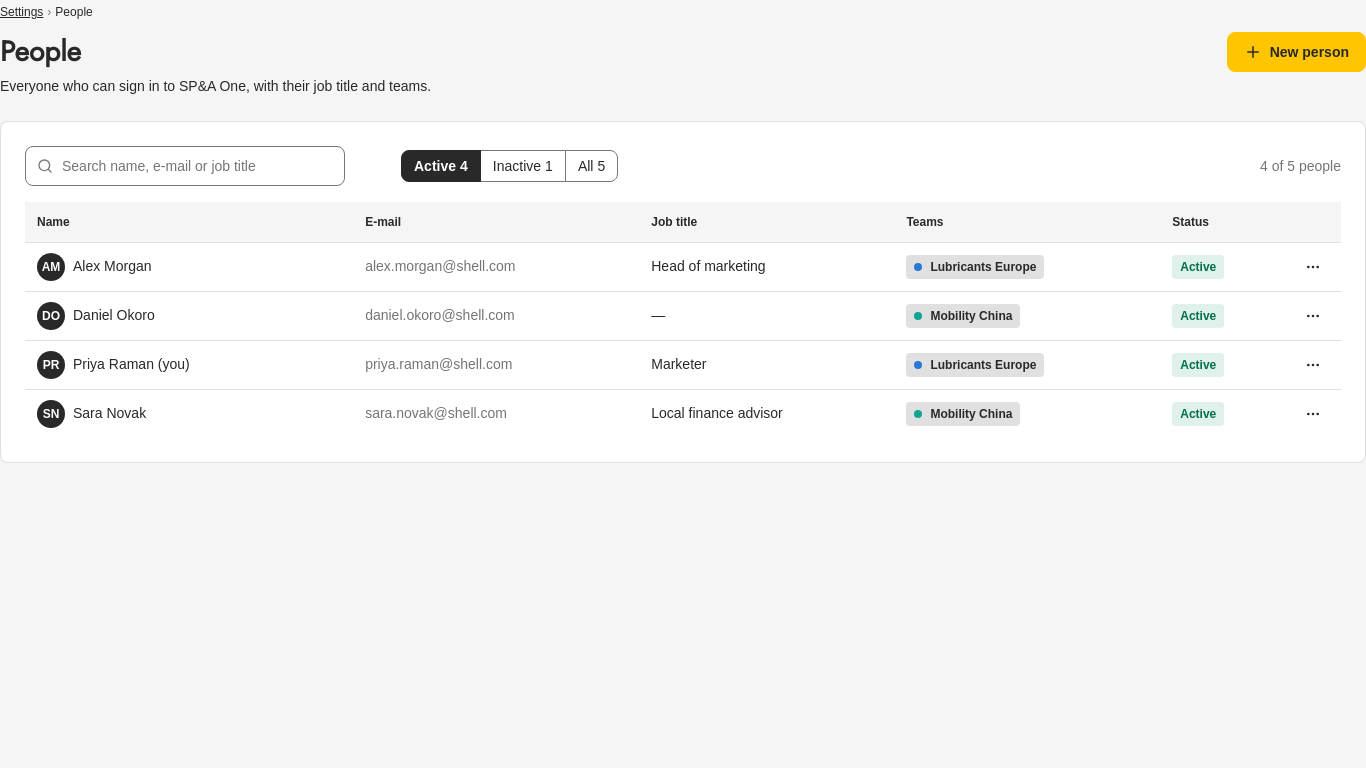
Scenario: PeoplePage (feature 003, US1): Deactivate and Reactivate › sends nothing when the deactivation is cancelled
Click the button named "Actions for Alex Morgan" at (1313, 266), box left=1297, top=250, right=1329, bottom=282
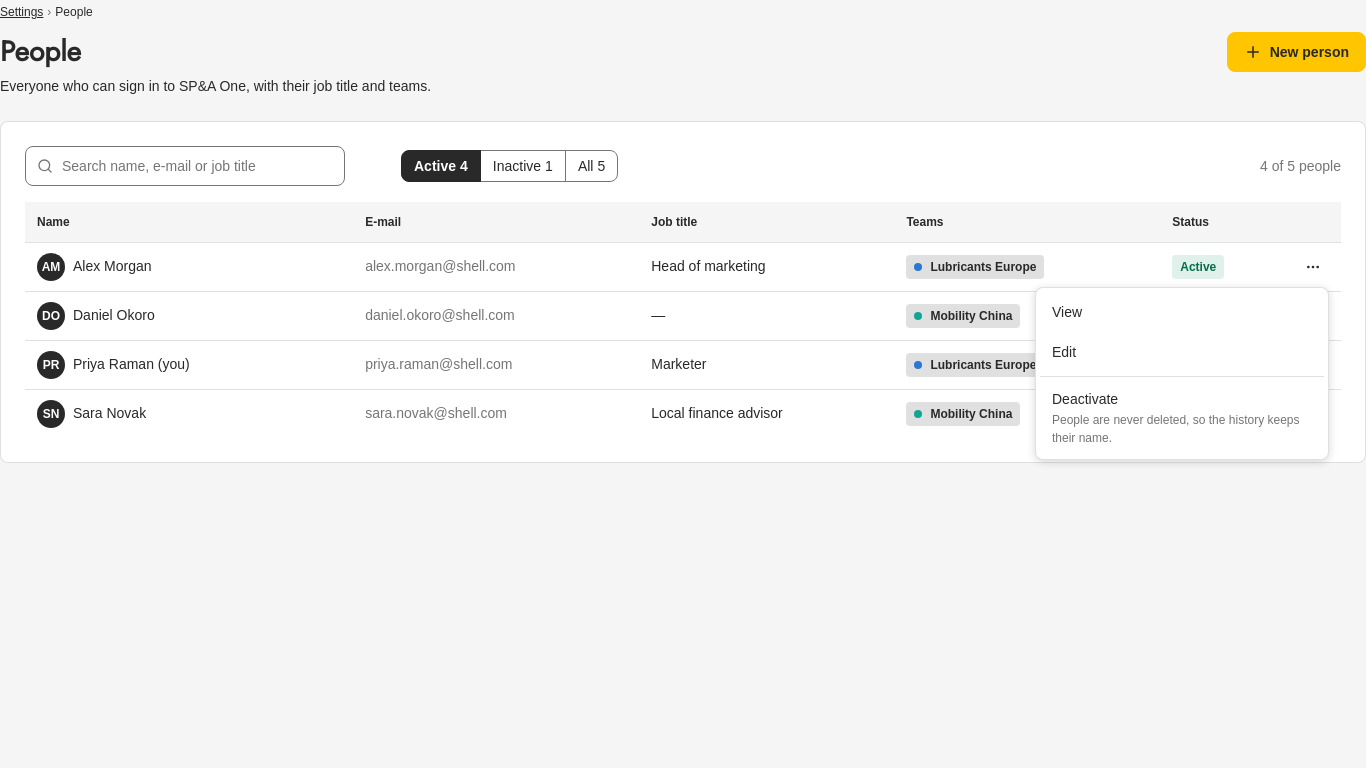
Click the menu item "Deactivate" at (1182, 418), box left=1040, top=381, right=1324, bottom=455
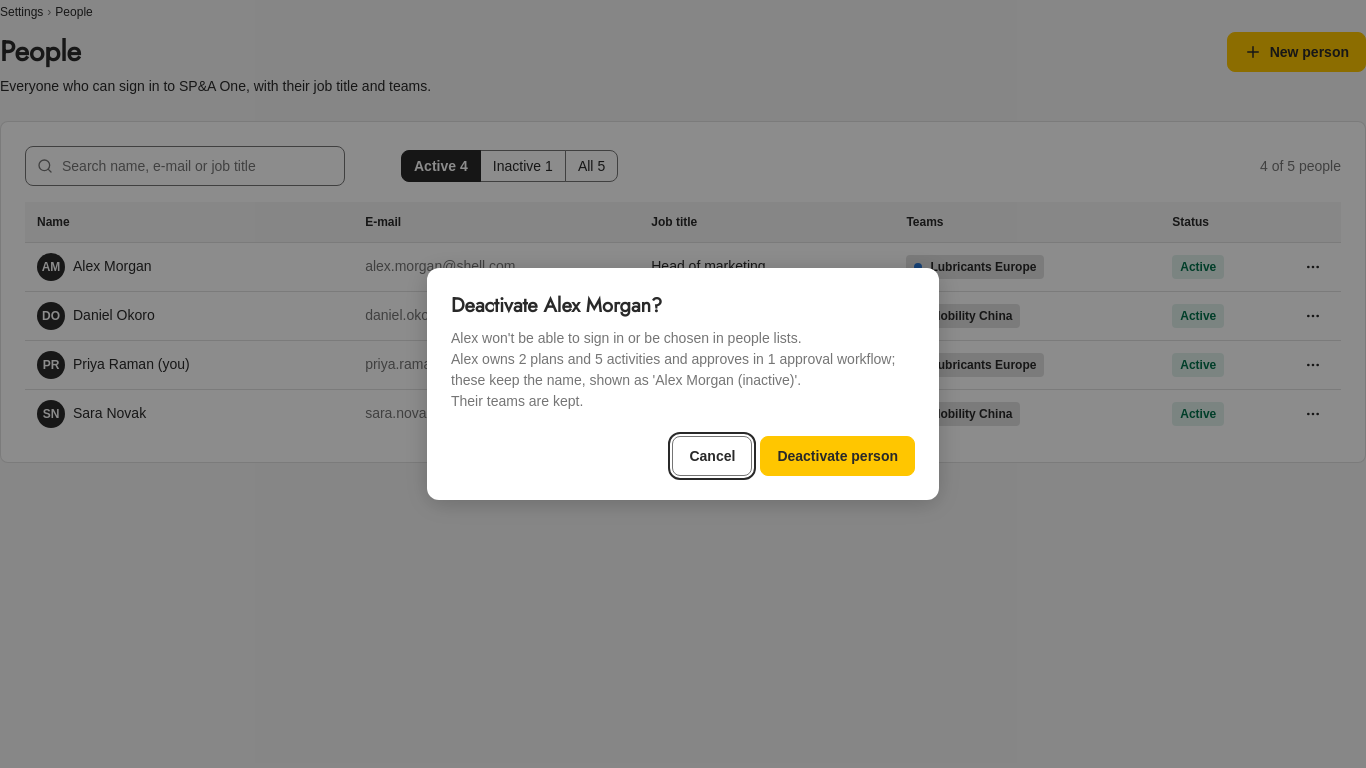
Click the button "Cancel" at (712, 456), box left=672, top=436, right=752, bottom=476
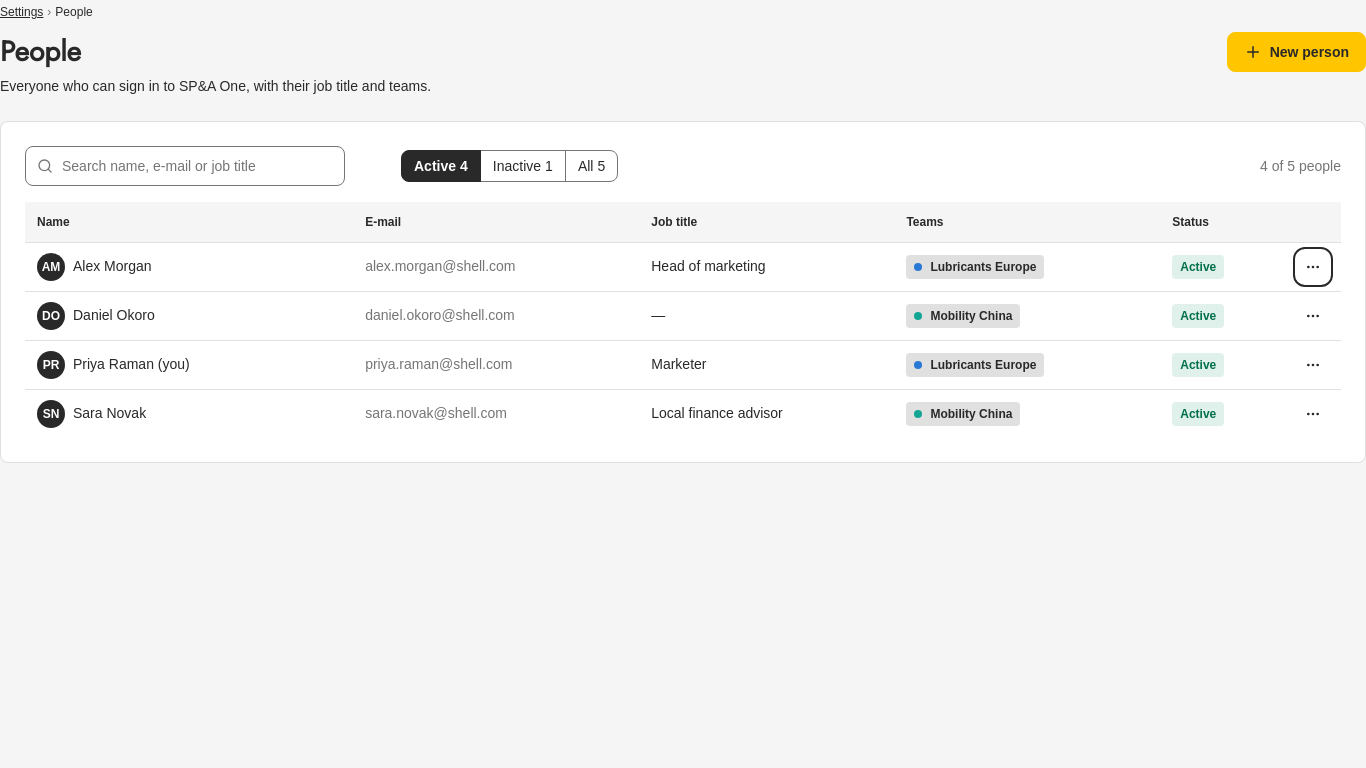
Expected: the dialog is gone
